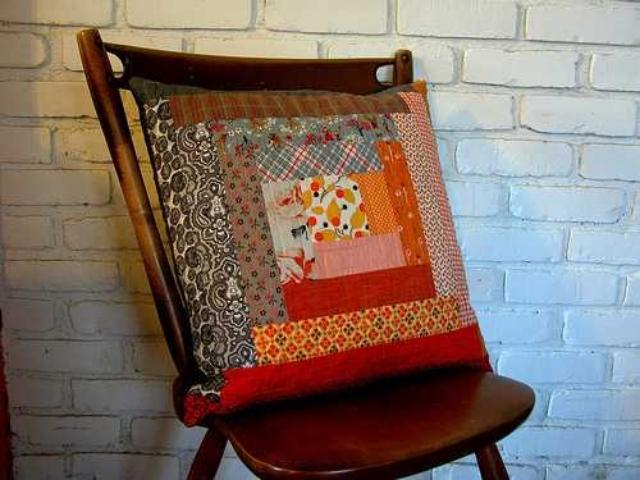pillow: (134, 77, 492, 420)
